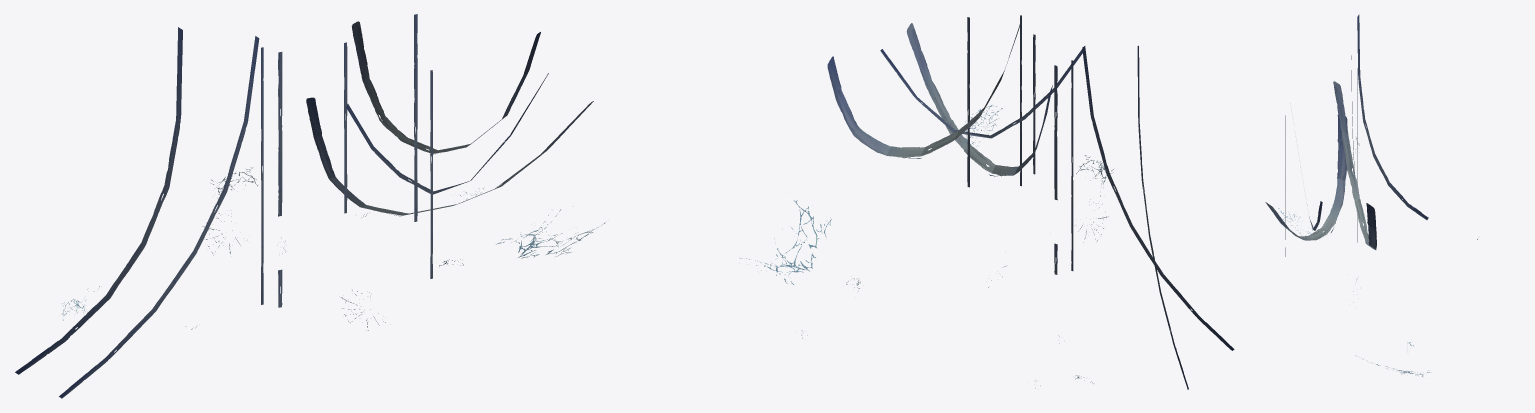
The model's file is Area_01_2.FBX.
3 renders of one model, left to right at view 1: azimuth 30°, elevation 25°; view 2: azimuth 150°, elevation 25°; view 3: azimuth 270°, elevation 25°, orthographic. The views are drawn at different scales.
Visible parts, largest first — view 1: Area_01_2; view 2: Area_01_2; view 3: Area_01_2.
Part boxes in pixels (x1,y1,x2,y2): Area_01_2: [15, 14, 605, 398]; Area_01_2: [739, 15, 1234, 389]; Area_01_2: [1265, 14, 1477, 376].
Size of the model in its own units: 3146 by 1892 by 1781.
Materials: 1 (1 with a texture image).
